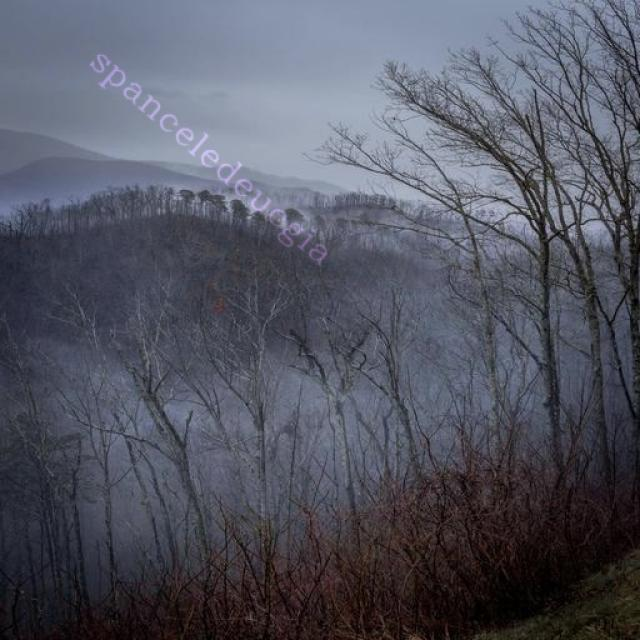watermark: (79, 36, 346, 273)
